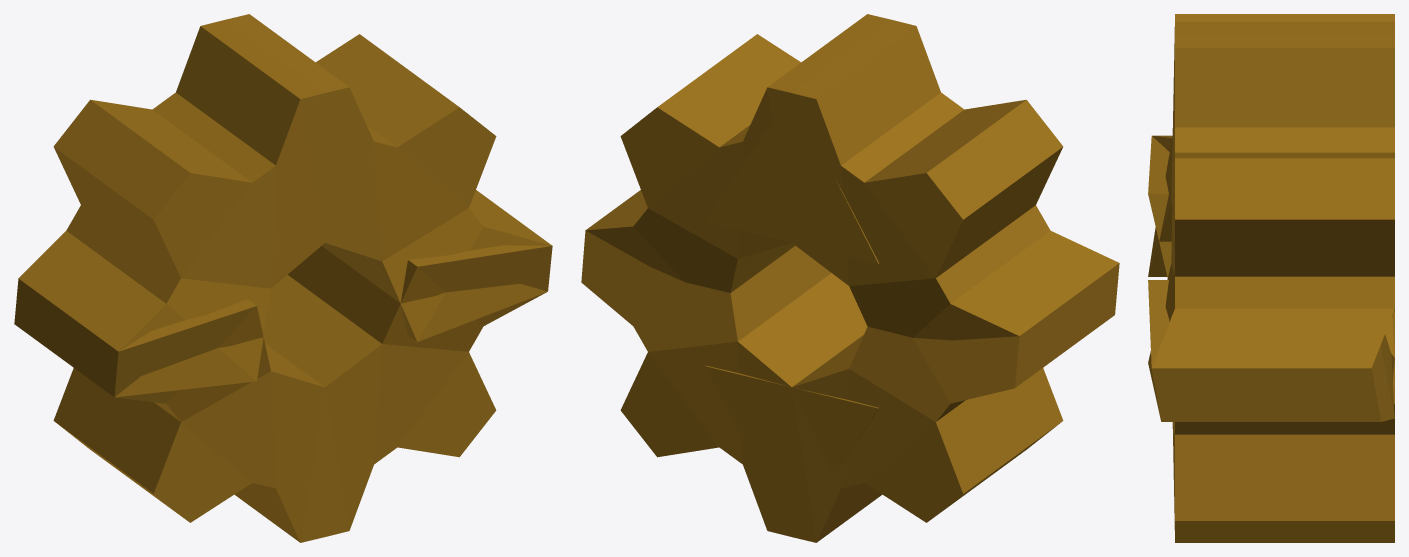
The model's file is gear.glb.
3 renders of one model, left to right at view 1: azimuth 30°, elevation 25°; view 2: azimuth 150°, elevation 25°; view 3: azimuth 270°, elevation 25°, orthographic. The views are drawn at different scales.
Visible parts, largest first — view 1: Cube; view 2: Cube; view 3: Cube.
Boxes of the visible parts, bbox=[...] form: Cube: bbox=[14, 14, 552, 542]; Cube: bbox=[581, 14, 1119, 542]; Cube: bbox=[1148, 14, 1394, 542].
Bounding box in the file's own units: 5.01 × 4.89 × 2.24.
1 material, 1 textured.
